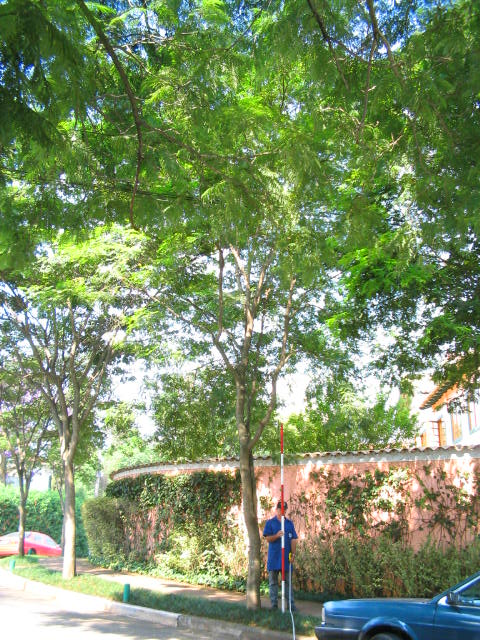crown: (94, 78, 417, 375), (4, 226, 169, 368)
stem: (226, 448, 269, 611), (53, 464, 88, 576)
stick: (271, 425, 289, 610)
tree: (92, 76, 418, 612), (1, 224, 170, 576)
